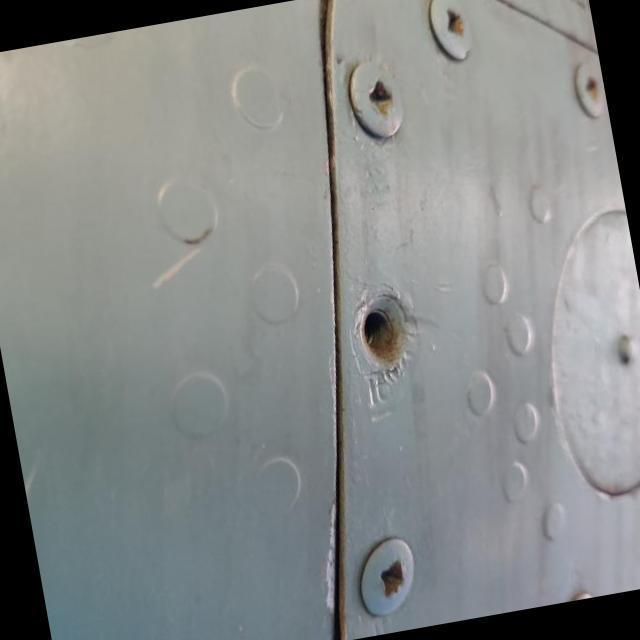Fastener Damage: (313, 260, 449, 420)
